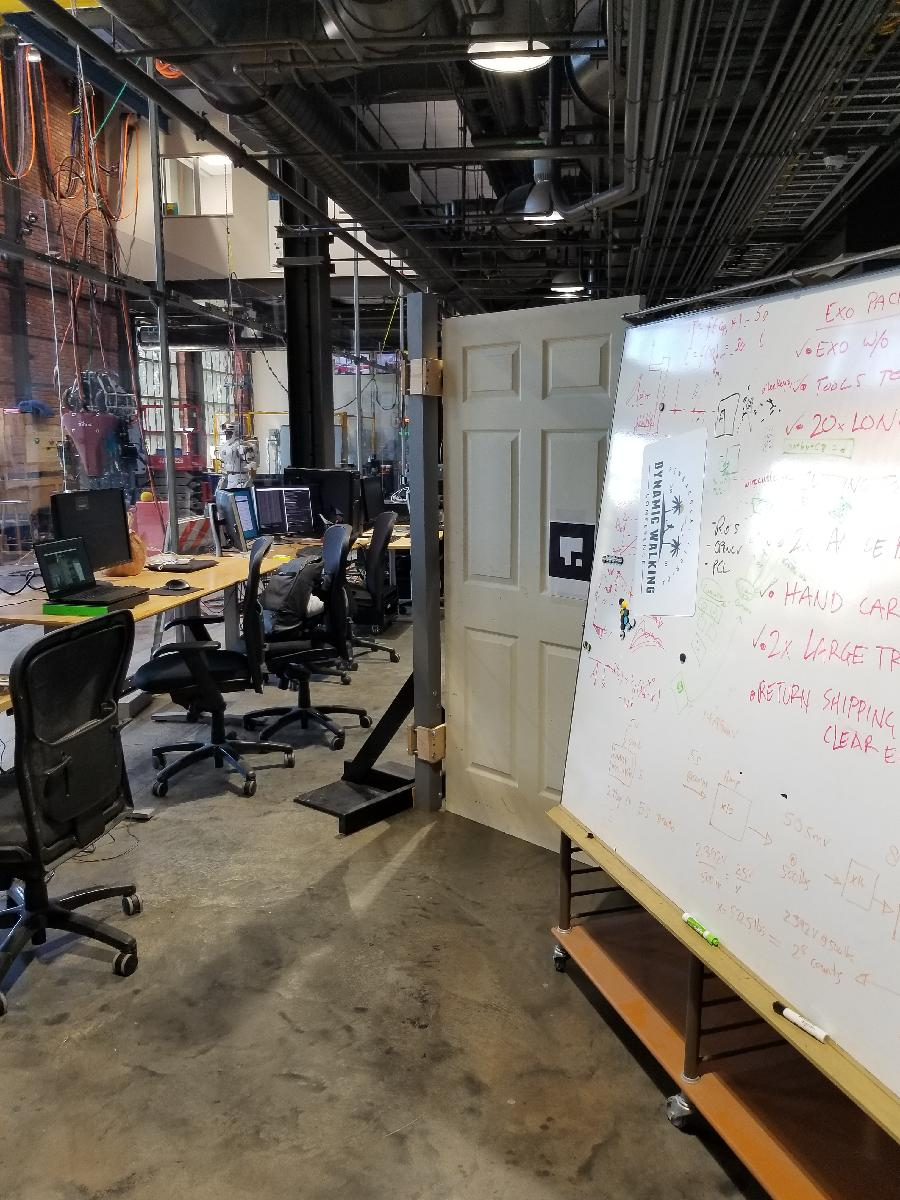door: (440, 292, 647, 884)
